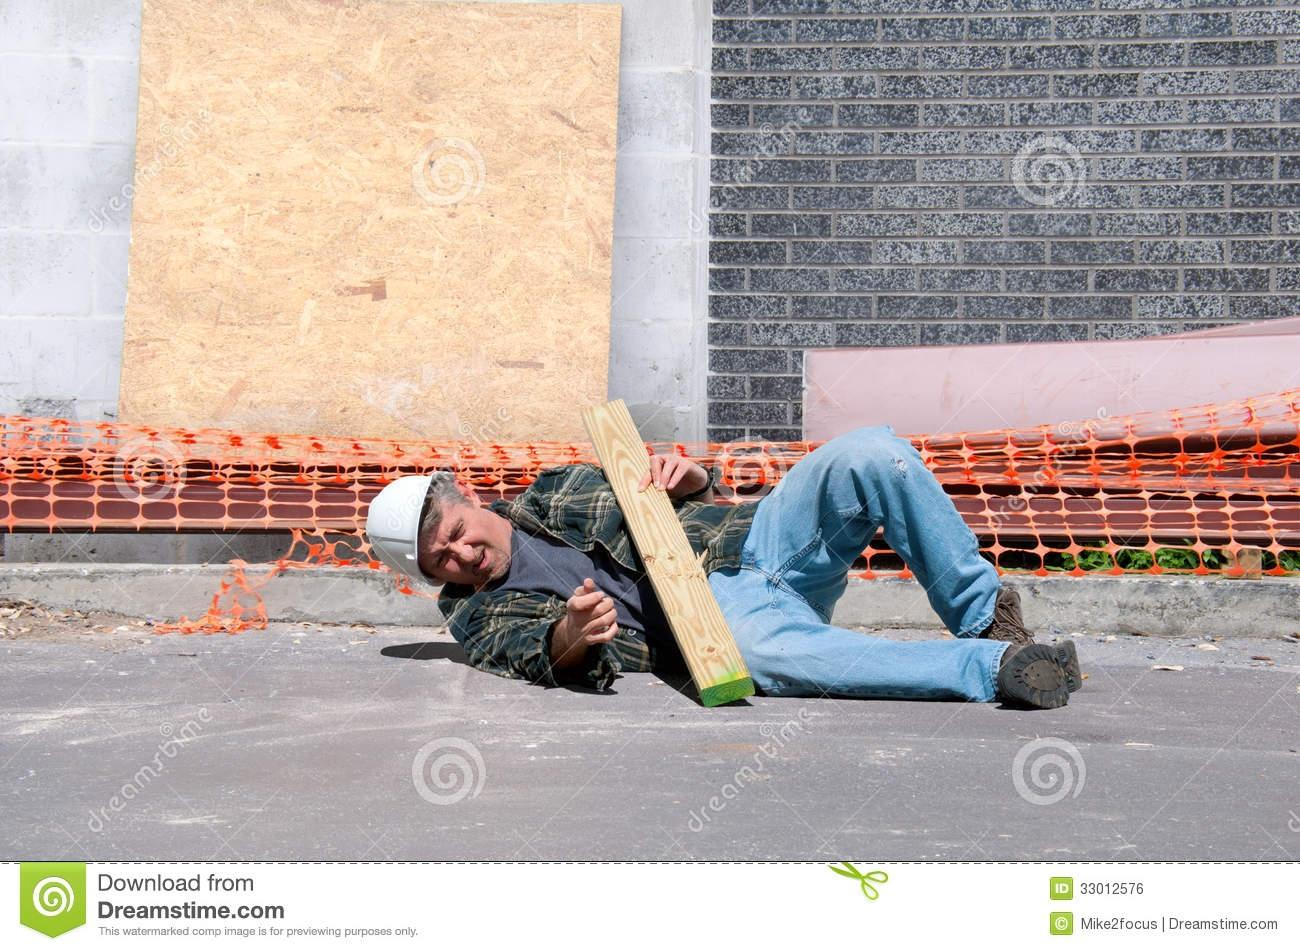helmet: (361, 476, 440, 584)
no_wear: (510, 462, 743, 677)
